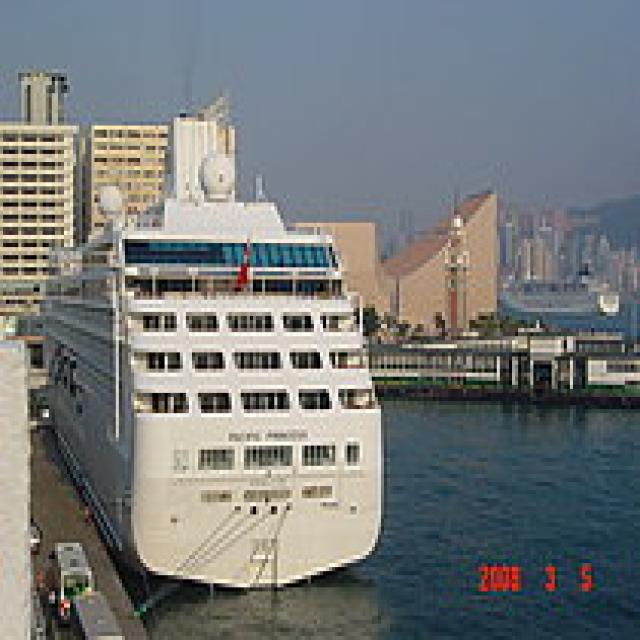Cruise: (34, 142, 384, 591)
